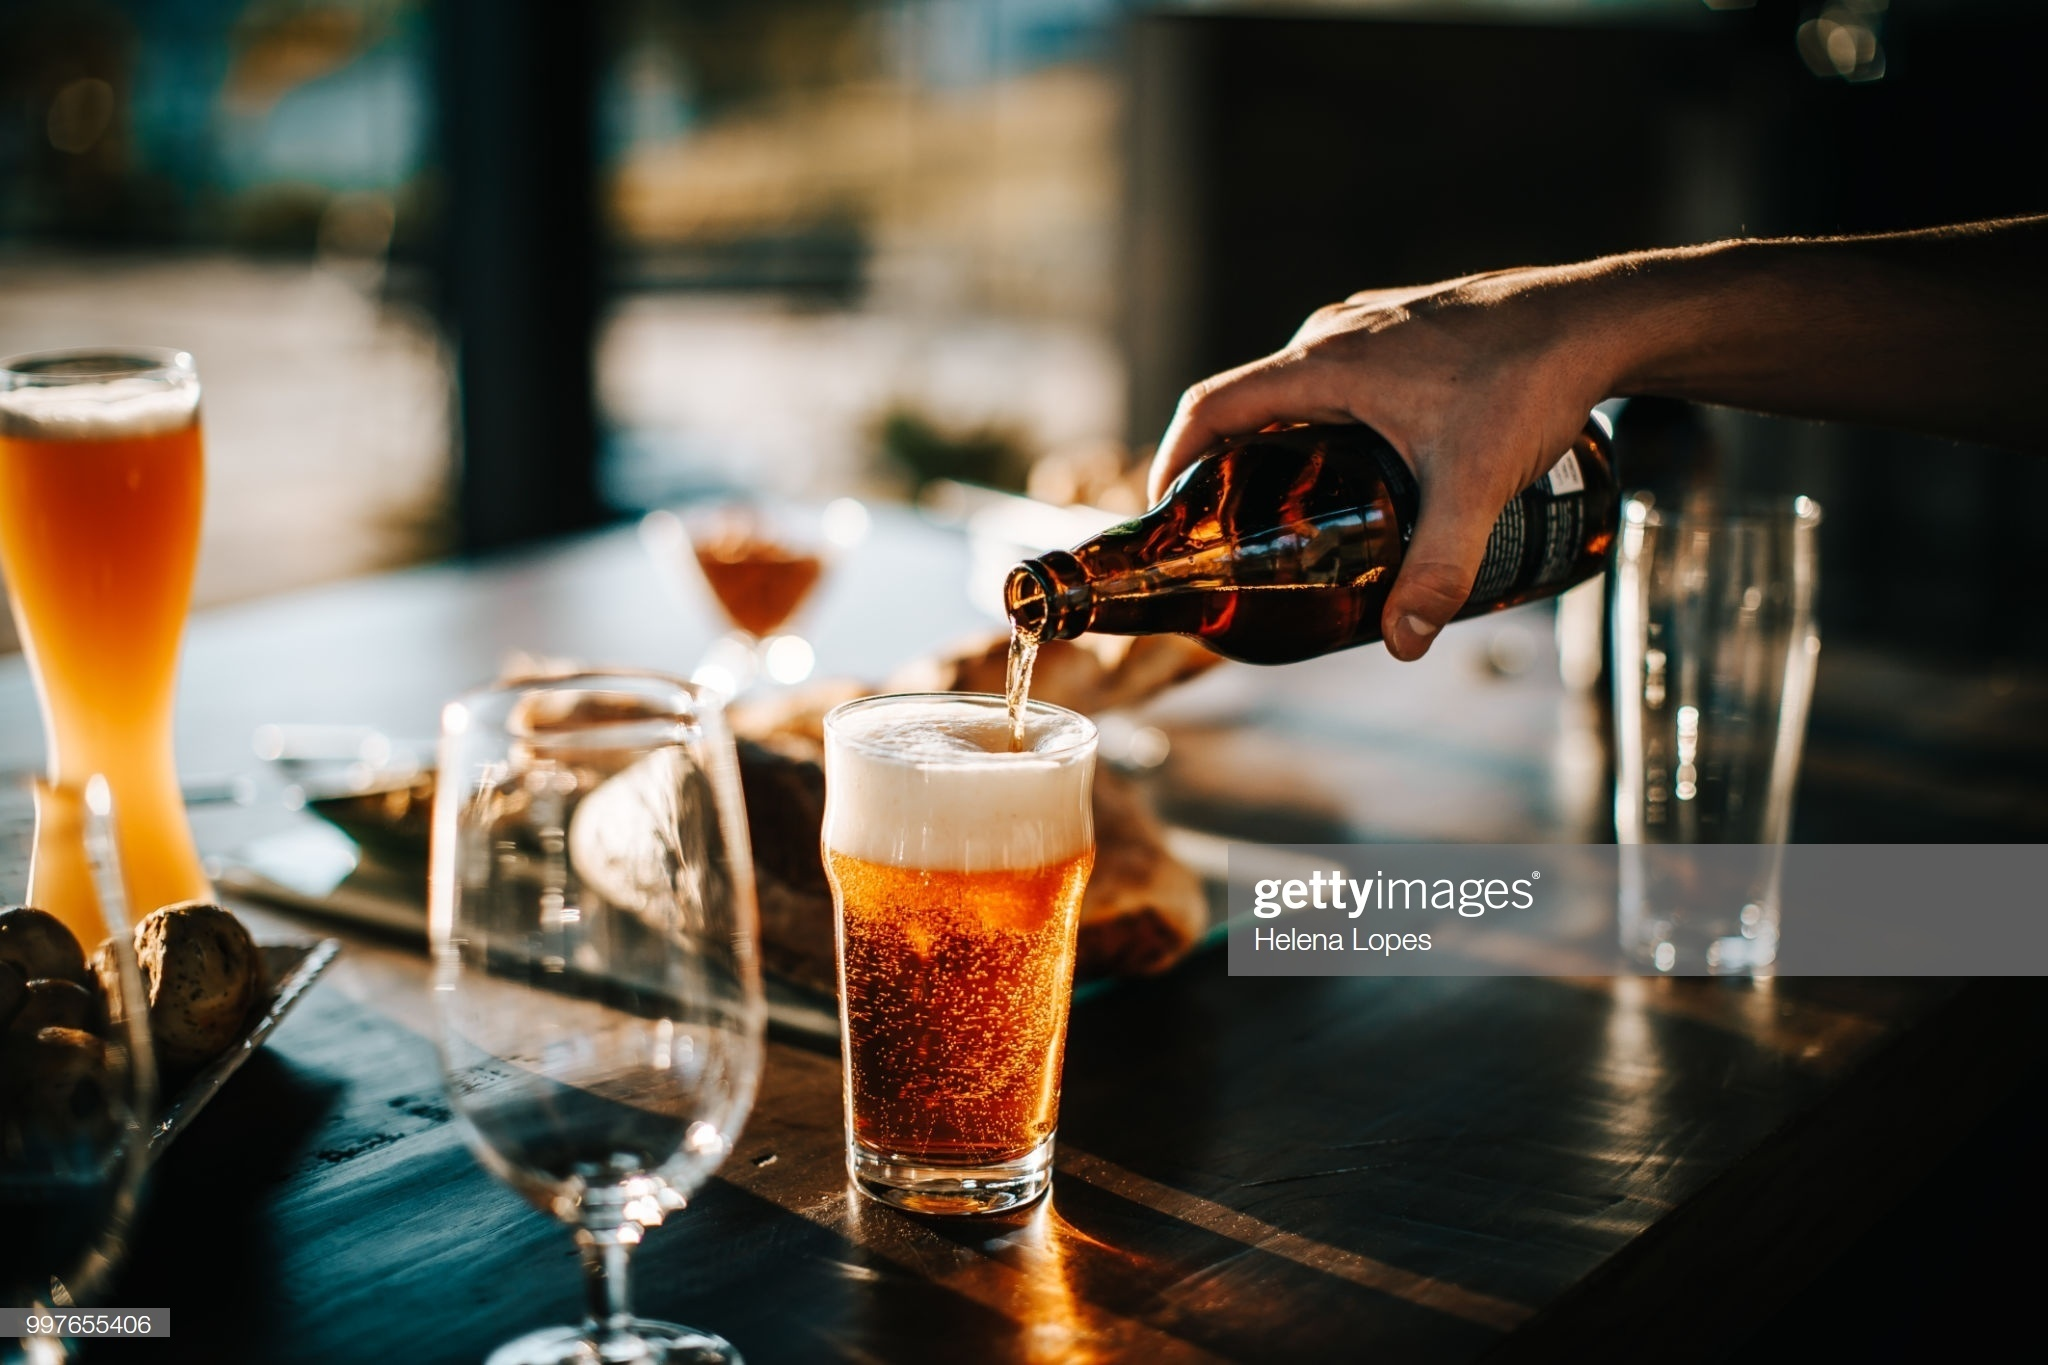whiskey: (813, 687, 1107, 1231), (1573, 478, 1867, 1022), (455, 676, 749, 1220), (2, 352, 294, 896)
